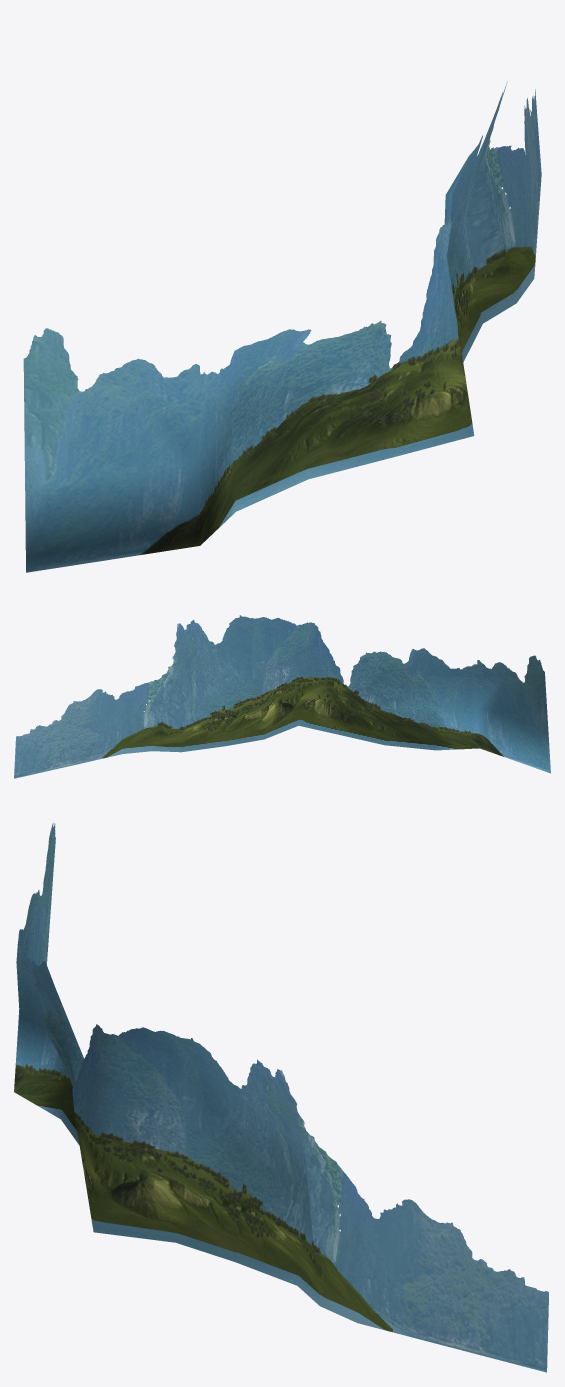
The model's file is Bf01g_hill_far_add_01.fbx.
3 renders of one model, top to bottom at view 1: azimuth 30°, elevation 25°; view 2: azimuth 150°, elevation 25°; view 3: azimuth 270°, elevation 25°, orthographic. The views are drawn at different scales.
Visible parts, largest first — view 1: Bf01g_hill_far_add_01; view 2: Bf01g_hill_far_add_01; view 3: Bf01g_hill_far_add_01.
Boxes of the visible parts, x1,y1,x2,y2 form: Bf01g_hill_far_add_01: [23, 81, 541, 572]; Bf01g_hill_far_add_01: [14, 615, 550, 778]; Bf01g_hill_far_add_01: [14, 822, 548, 1372].
Bounding box in the file's own units: 73940 × 24619 × 47912.
1 material, 1 textured.
